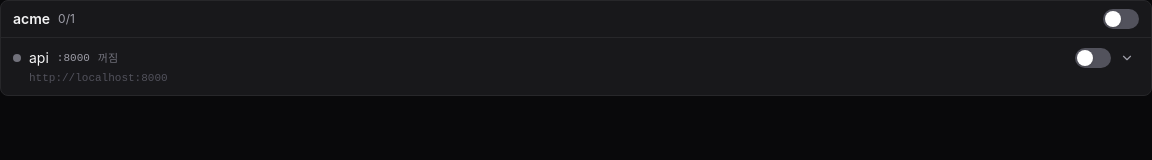
Test: GroupCard › start_service 가 '포트 8000 을 다른 프로세스가 쓰고 있습니다' 로 실패하면 '포트 8000 을 다른 프로세스가 쓰고 있습니다' 을 보여준다
Click the switch named "acme 전체" at (1121, 19), box [1103, 9, 1139, 29]
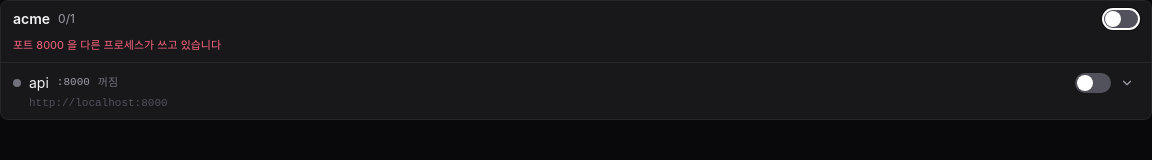
Check: the message reads "포트 8000 을 다른 프로세스가 쓰고 있습니다", box [13, 38, 221, 52]
